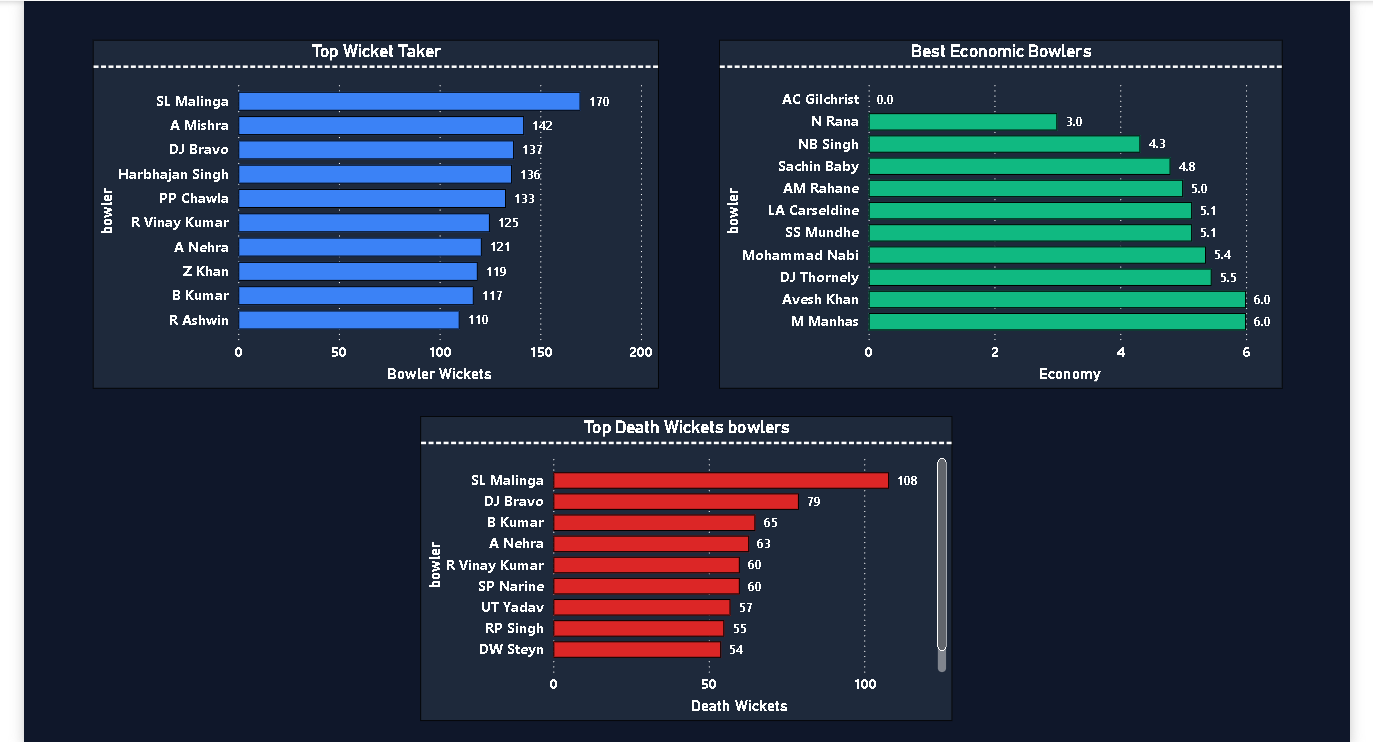

What the dashboard file says about the page in this screenshot:
{"tool":"powerbi","page":{"name":"Bowling Analysis","canvas":[1280,720],"ordinal":2},"visuals":[{"type":"barChart","title":"Top Wicket Taker","fields":{"Category":["deliveries.bowler"],"Y":["deliveries.Bowler Wickets"]},"box":[66.4,37.4,546.5,336.6],"z":0},{"type":"barChart","title":"Best Economic Bowlers","fields":{"Category":["deliveries.bowler"],"Y":["deliveries.Economy"]},"box":[670.8,37.4,544.1,336.6],"z":1000},{"type":"barChart","title":"Top Death Wickets bowlers","fields":{"Category":["deliveries.bowler"],"Y":["deliveries.Death Wickets"]},"box":[382.4,400.5,513.9,294.4],"z":2000}]}

Visuals, with their boxes on the page's 1280x720 design canvas (x1, y1, x2, y2). These are canvas units, not pixel positions in the 1373x742 screenshot, which may show the page scaled, cropped or inside an application window:
"Top Wicket Taker" barChart: (left=66, top=37, right=613, bottom=374)
"Best Economic Bowlers" barChart: (left=671, top=37, right=1215, bottom=374)
"Top Death Wickets bowlers" barChart: (left=382, top=400, right=896, bottom=695)
